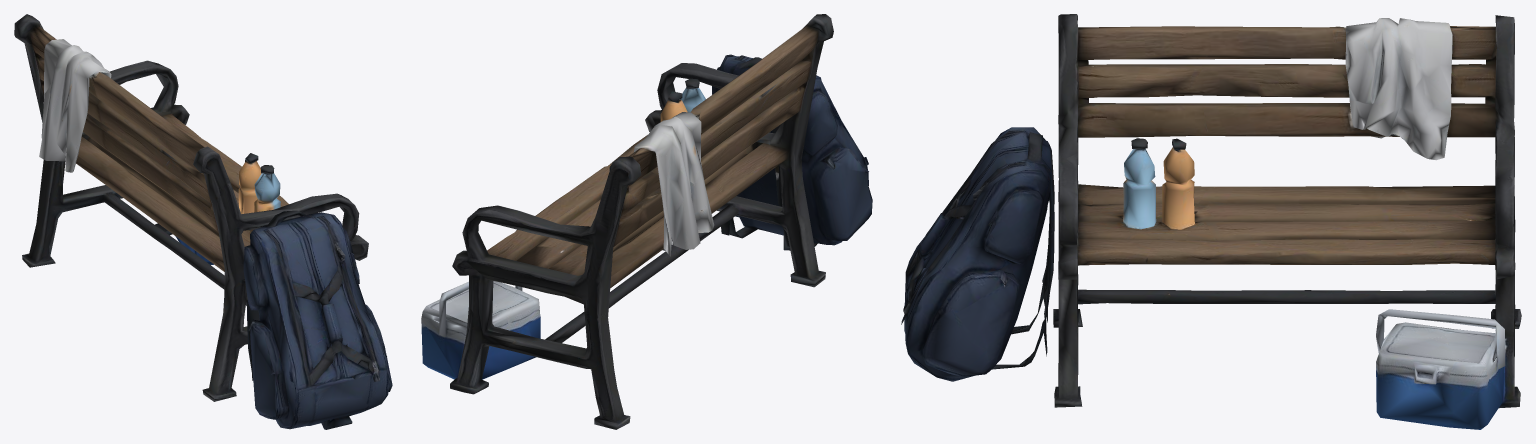
Rendered from bank.glb.
The picture shows the model from 3 angles, left to right: view 1: azimuth 30°, elevation 25°; view 2: azimuth 150°, elevation 25°; view 3: azimuth 270°, elevation 25°; orthographic projection. The views are drawn at different scales.
Parts seen in each view (by area): view 1: tripo_node_dd28bcdf-0050-4463-b13f-9e06a0114c5c; view 2: tripo_node_dd28bcdf-0050-4463-b13f-9e06a0114c5c; view 3: tripo_node_dd28bcdf-0050-4463-b13f-9e06a0114c5c.
Part boxes in pixels (box(x1,y1,x2,y2)): tripo_node_dd28bcdf-0050-4463-b13f-9e06a0114c5c: box(14, 14, 392, 429); tripo_node_dd28bcdf-0050-4463-b13f-9e06a0114c5c: box(421, 14, 872, 429); tripo_node_dd28bcdf-0050-4463-b13f-9e06a0114c5c: box(901, 14, 1521, 429).
Size of the model in its own units: 0.5055 by 0.5367 by 0.9965.
Materials: 1 (1 with a texture image).
